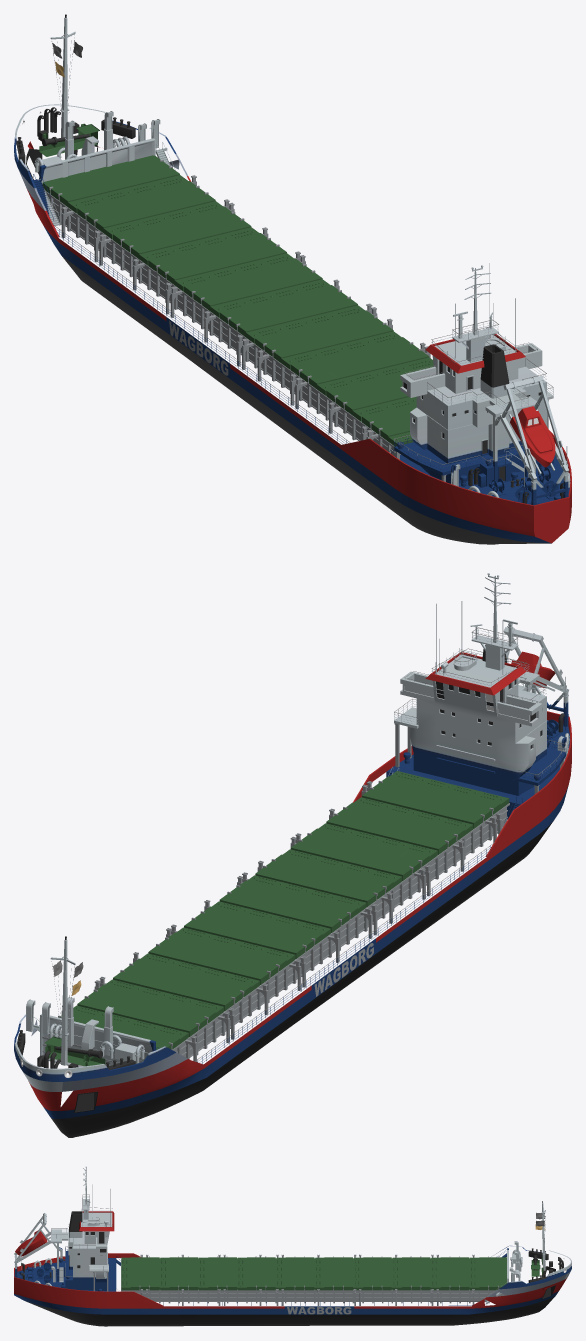
The model's file is 散货船.glb.
3 views of the same model, one above another, from view 1: azimuth 30°, elevation 25°; view 2: azimuth 150°, elevation 25°; view 3: azimuth 270°, elevation 25° (orthographic). The views are drawn at different scales.
Visible parts, largest first — view 1: shc; view 2: shc; view 3: shc.
Boxes of the visible parts, x1,y1,x2,y2 form: shc: (14,14,571,544); shc: (14,573,571,1137); shc: (14,1166,571,1326).
Bounding box in the file's own units: 19.63 × 34.03 × 120.
9 materials, 8 textured.
